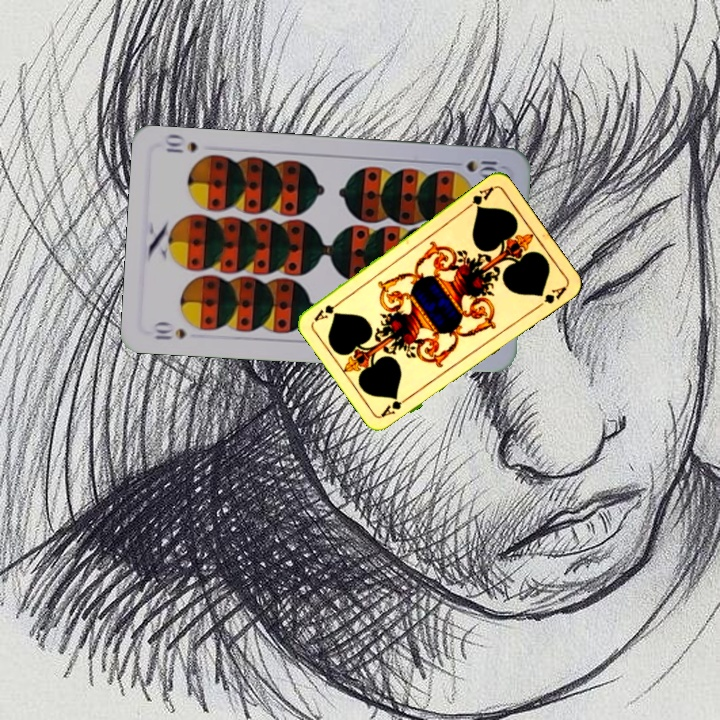GA: (462, 182, 497, 212), (377, 391, 414, 419)
S10: (446, 156, 502, 180), (150, 319, 189, 342)
